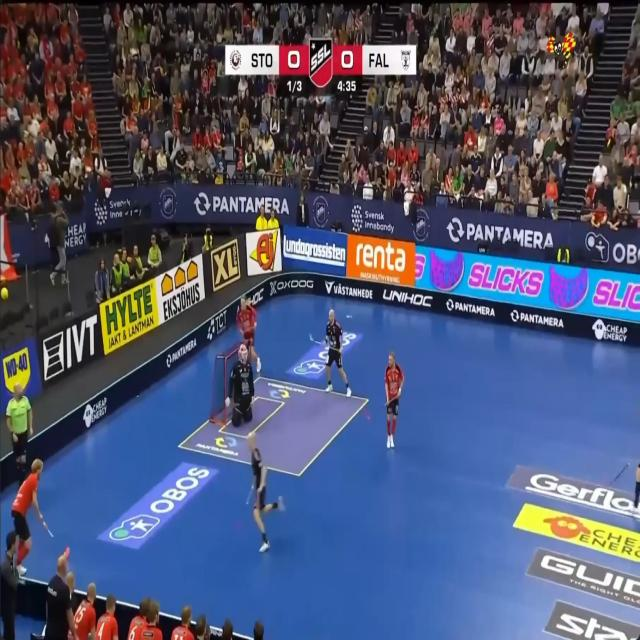player: (247, 431, 284, 552), (11, 458, 47, 575), (225, 344, 254, 426), (325, 309, 351, 396), (385, 351, 404, 447), (237, 296, 260, 372), (73, 583, 96, 639), (127, 597, 150, 639), (96, 594, 117, 639), (171, 605, 194, 639), (68, 631, 72, 639)
stick: (309, 333, 339, 350), (610, 463, 629, 484), (385, 395, 398, 407), (43, 521, 53, 536), (246, 483, 252, 504), (362, 406, 370, 420), (47, 528, 53, 537)
